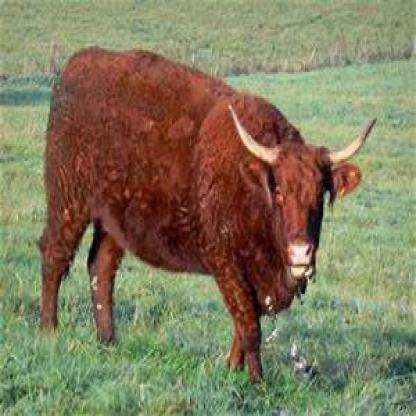cow: (33, 35, 366, 388)
